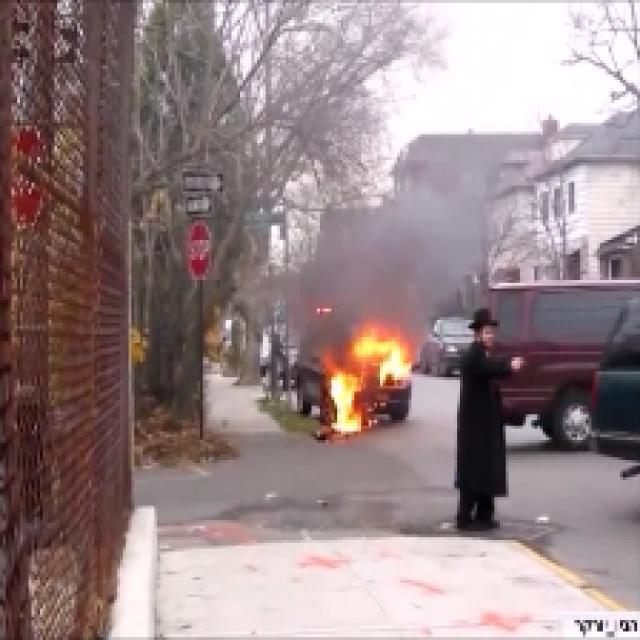Fire: (324, 336, 411, 429)
Smoke: (336, 206, 444, 320)
